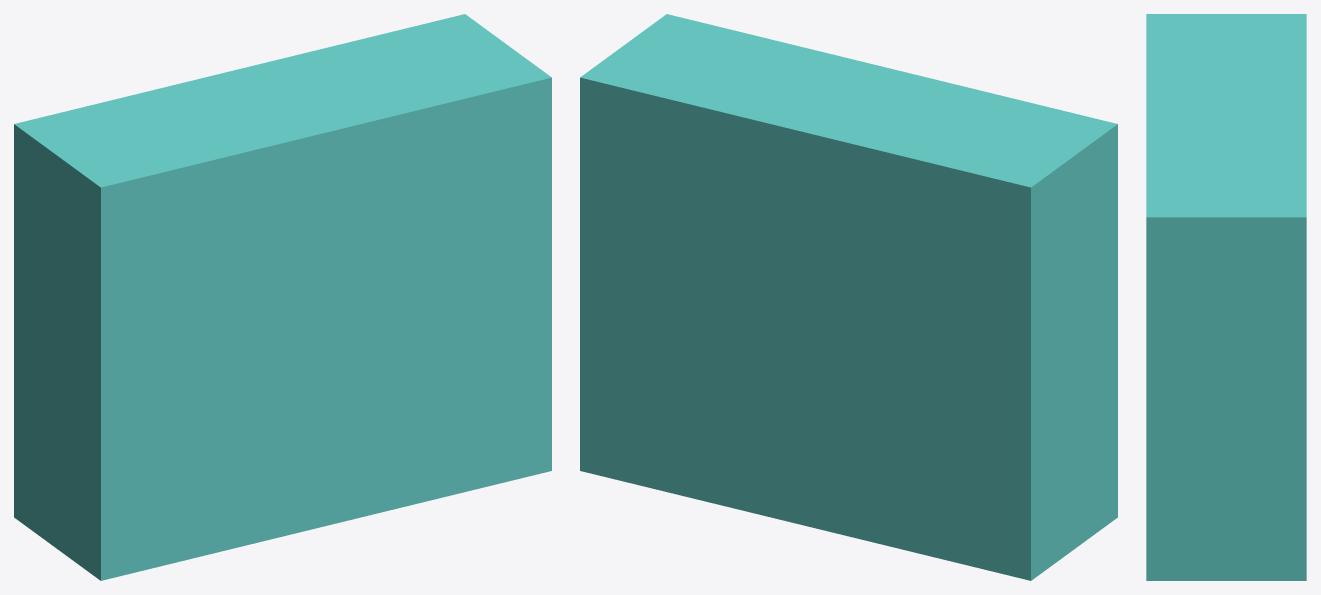
Rendered from Technica.gltf.
3 renders of one model, left to right at view 1: azimuth 30°, elevation 25°; view 2: azimuth 150°, elevation 25°; view 3: azimuth 270°, elevation 25°, orthographic. The views are drawn at different scales.
Visible parts, largest first — view 1: mesh7479, mesh7476, mesh7477; view 2: mesh7480, mesh7476, mesh7477; view 3: mesh7475, mesh7476.
Boxes of the visible parts, box(x1,y1,x2,y2) form: mesh7479: box(101, 77, 551, 580); mesh7476: box(14, 14, 551, 187); mesh7477: box(14, 124, 100, 580); mesh7480: box(580, 77, 1030, 580); mesh7476: box(580, 14, 1117, 187); mesh7477: box(1031, 124, 1117, 580); mesh7475: box(1146, 217, 1306, 580); mesh7476: box(1146, 14, 1306, 217).
Size of the model in its own units: 0.09 by 0.075 by 0.03.
